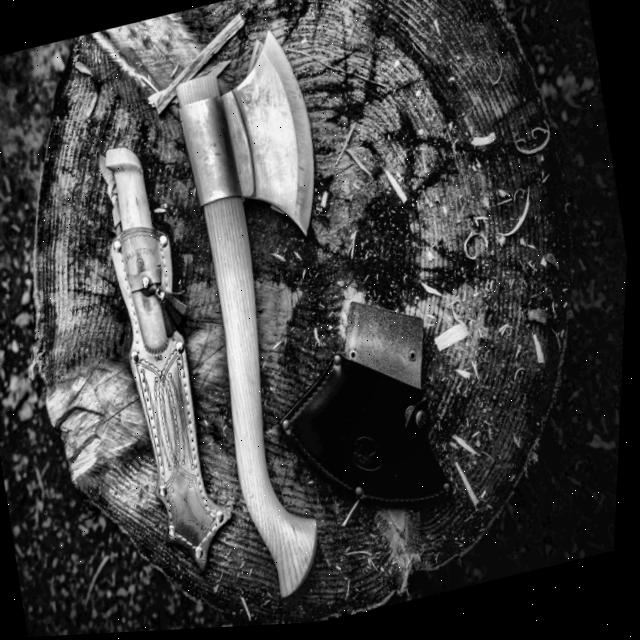kapak: (123, 0, 421, 623)
